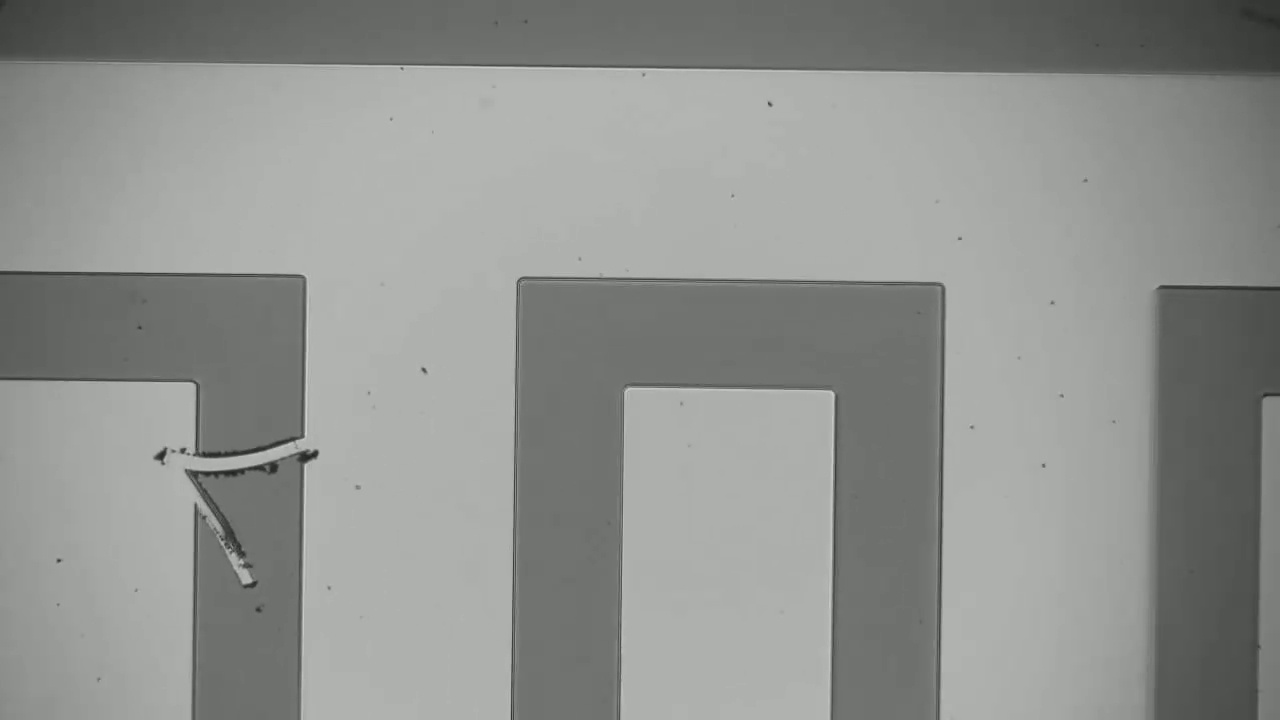Short_circuit: (152, 408, 334, 496)
